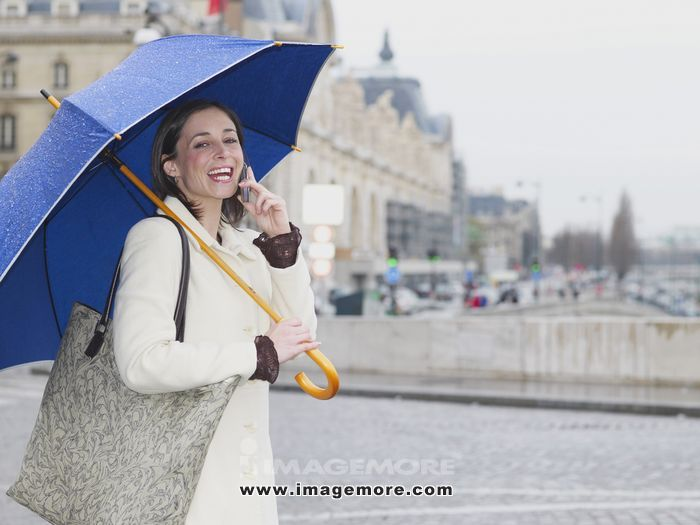phone: (237, 164, 266, 218)
talk: (193, 129, 290, 237)
